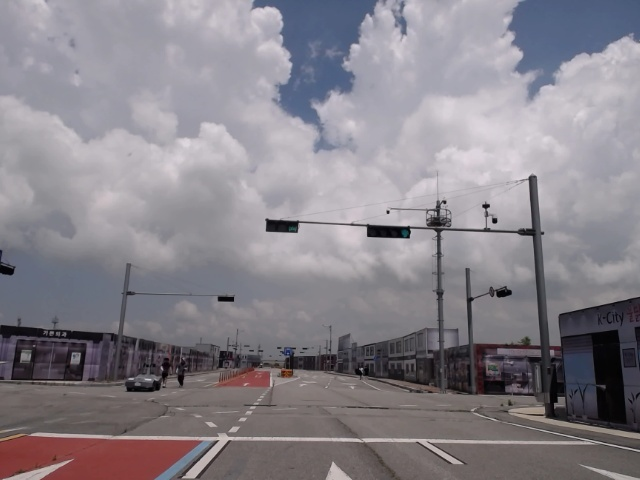straight_green_4: (367, 228, 412, 240)
